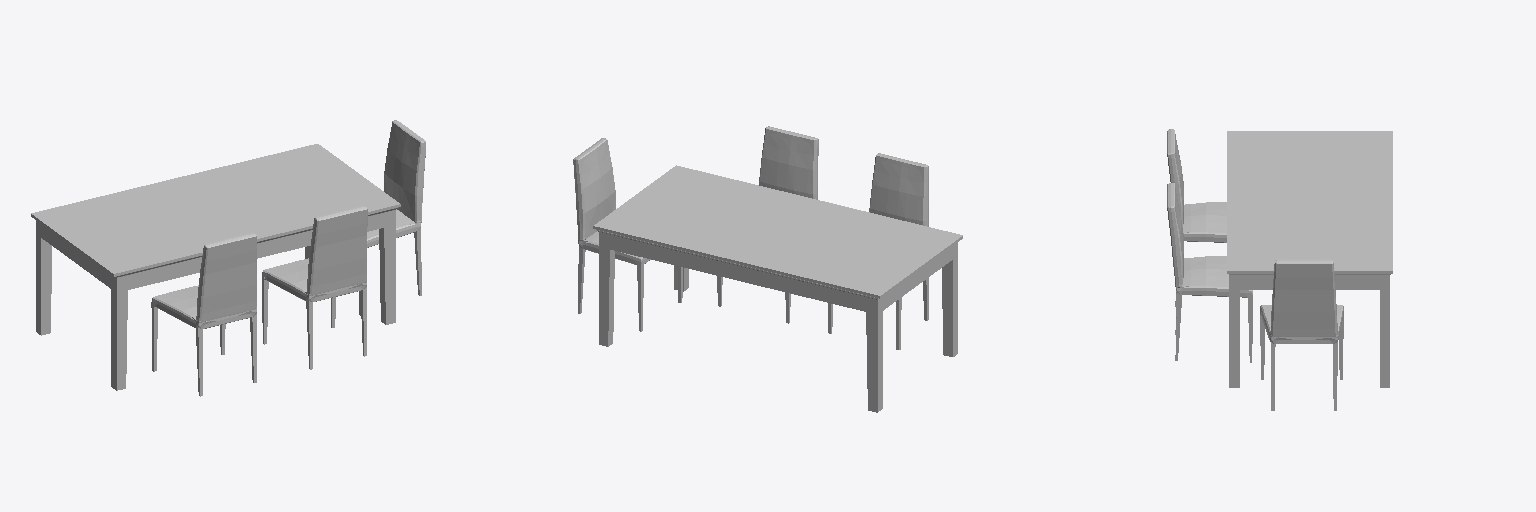
The model's file is IKEA-Markor_Table_And_Chairs-3D.obj.
The picture shows the model from 3 angles: view 1: azimuth 30°, elevation 25°; view 2: azimuth 150°, elevation 25°; view 3: azimuth 270°, elevation 25°; orthographic projection.
Visible parts, largest first — view 1: Layer_ASHADE, Layer_0; view 2: Layer_ASHADE, Layer_0; view 3: Layer_ASHADE, Layer_0.
Boxes of the visible parts, box(x1,y1,x2,y2) form: Layer_ASHADE: box(31, 144, 400, 390); Layer_0: box(151, 120, 425, 396); Layer_ASHADE: box(593, 165, 962, 412); Layer_0: box(573, 126, 928, 349); Layer_ASHADE: box(1227, 131, 1392, 387); Layer_0: box(1167, 129, 1343, 410).
Size of the model in its own units: 2234 by 963 by 1292.